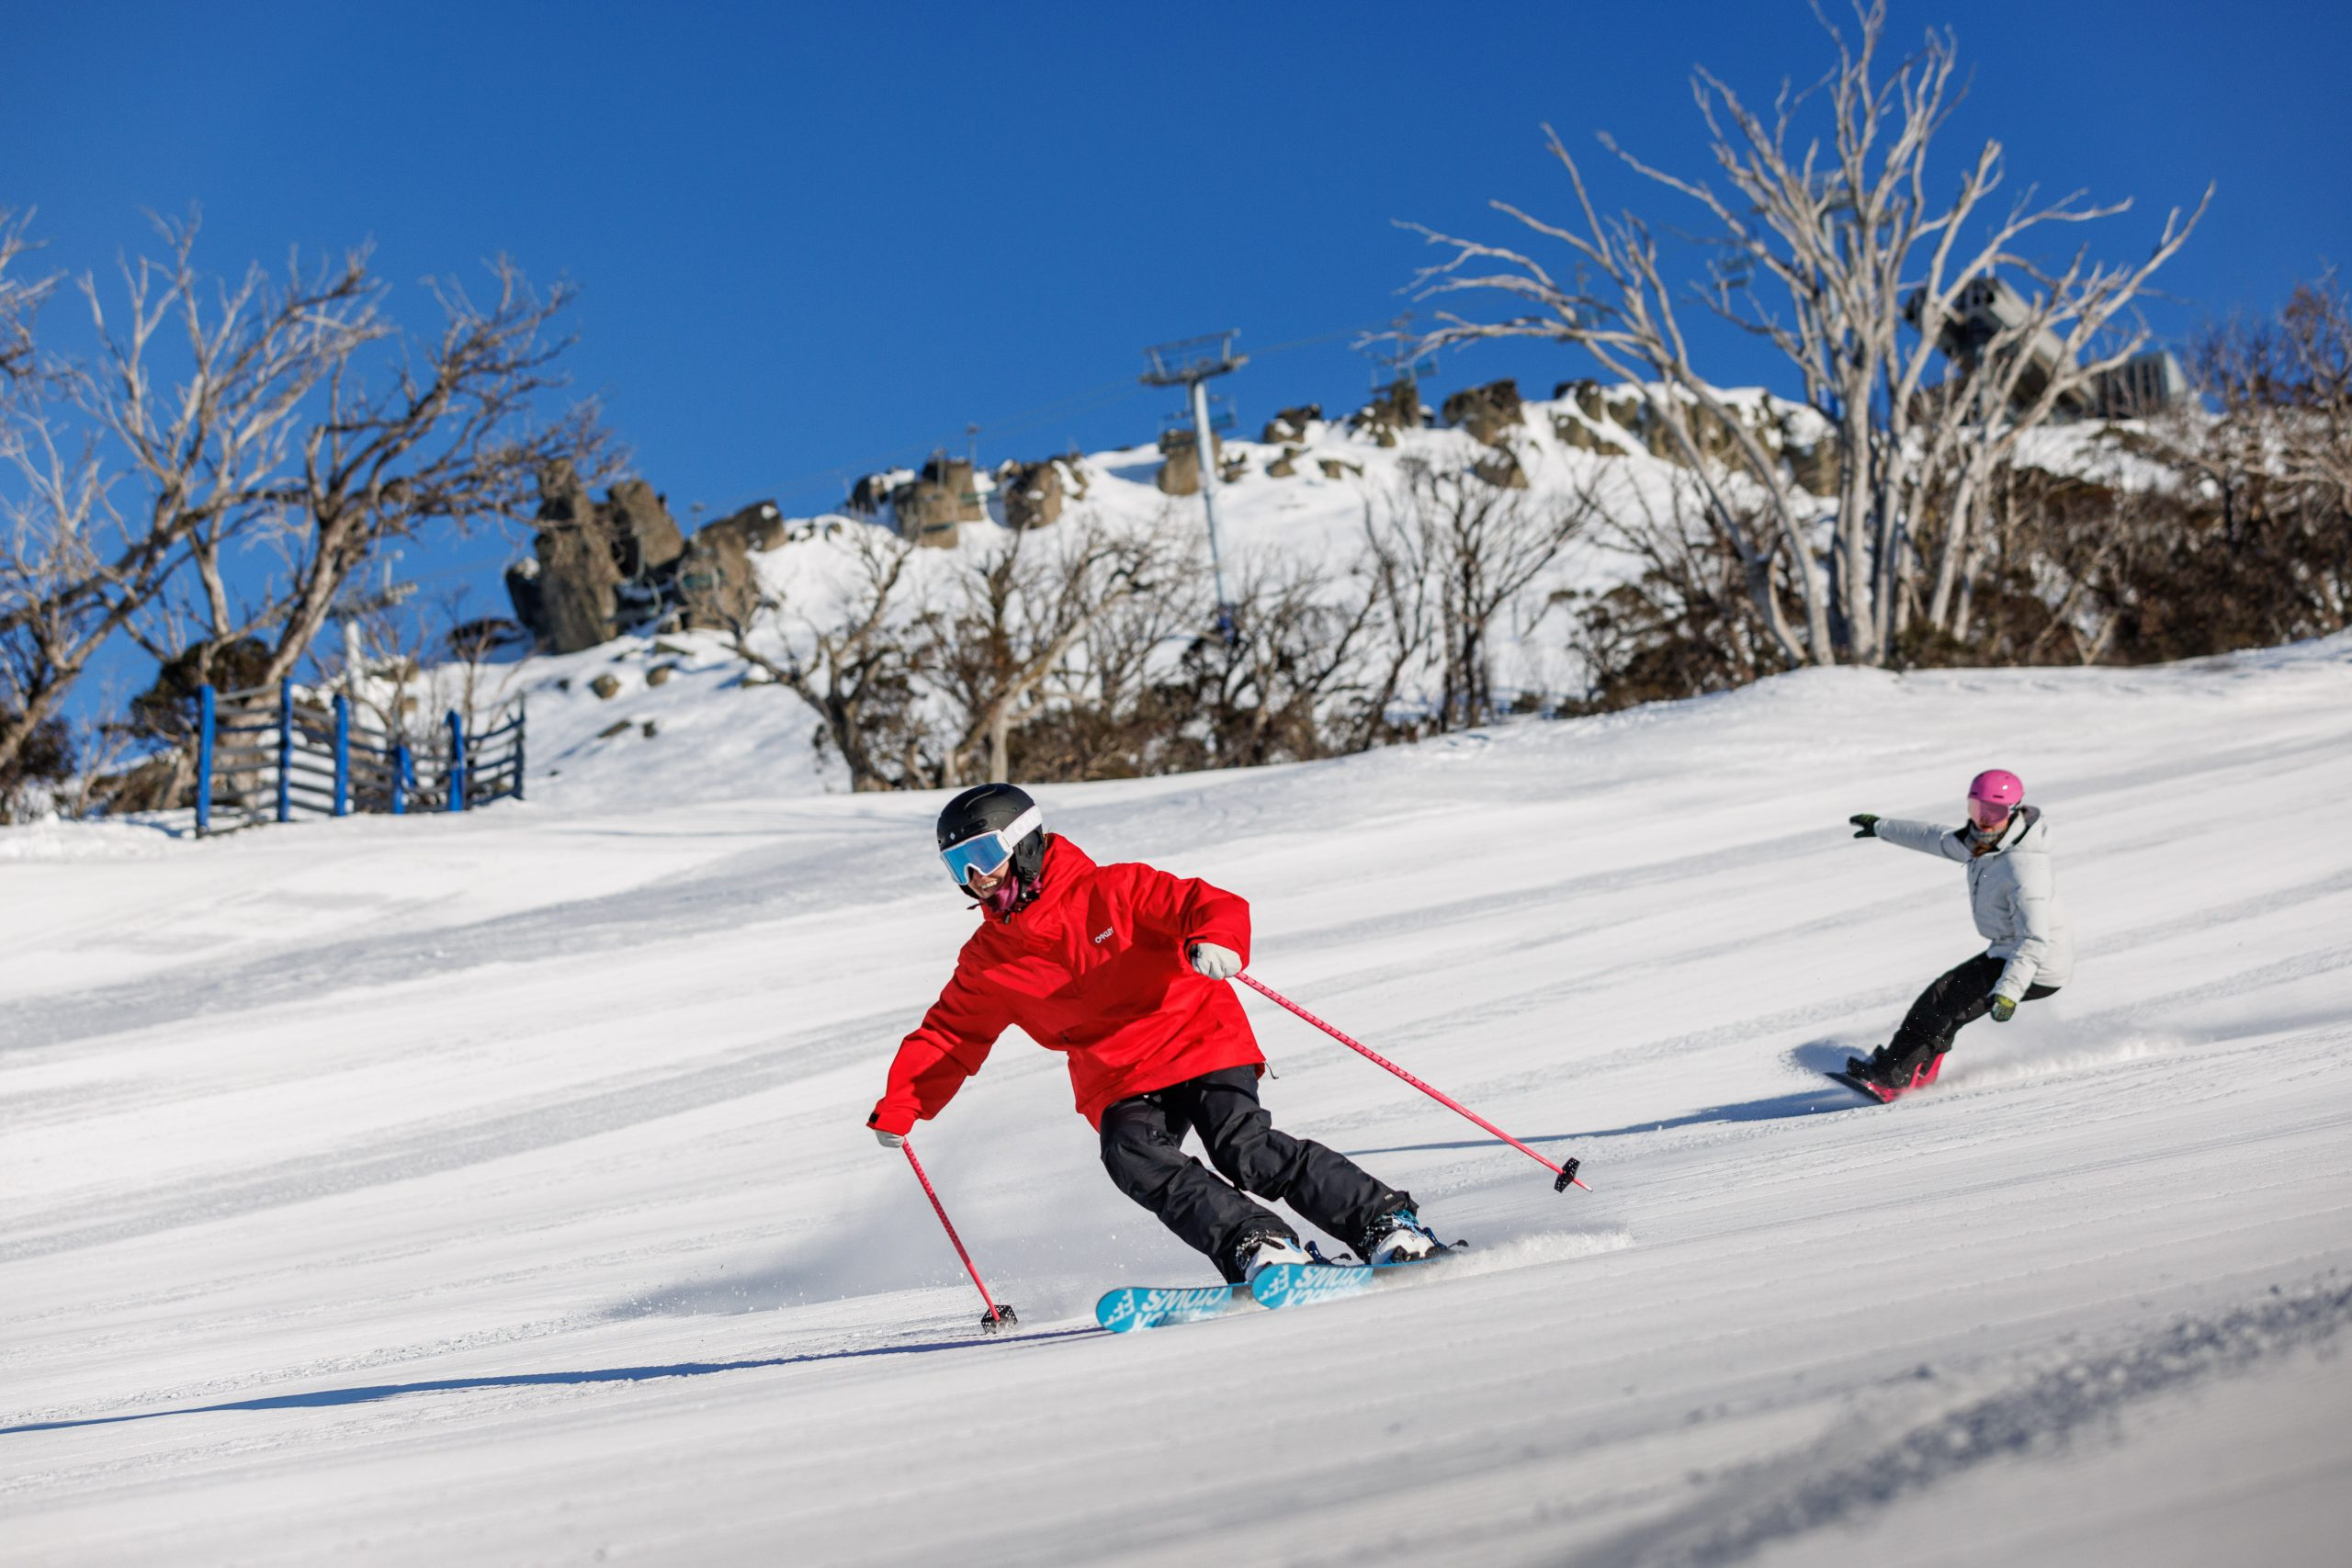skier: (863, 782, 1594, 1332)
snowboarder: (1815, 773, 2068, 1102)
